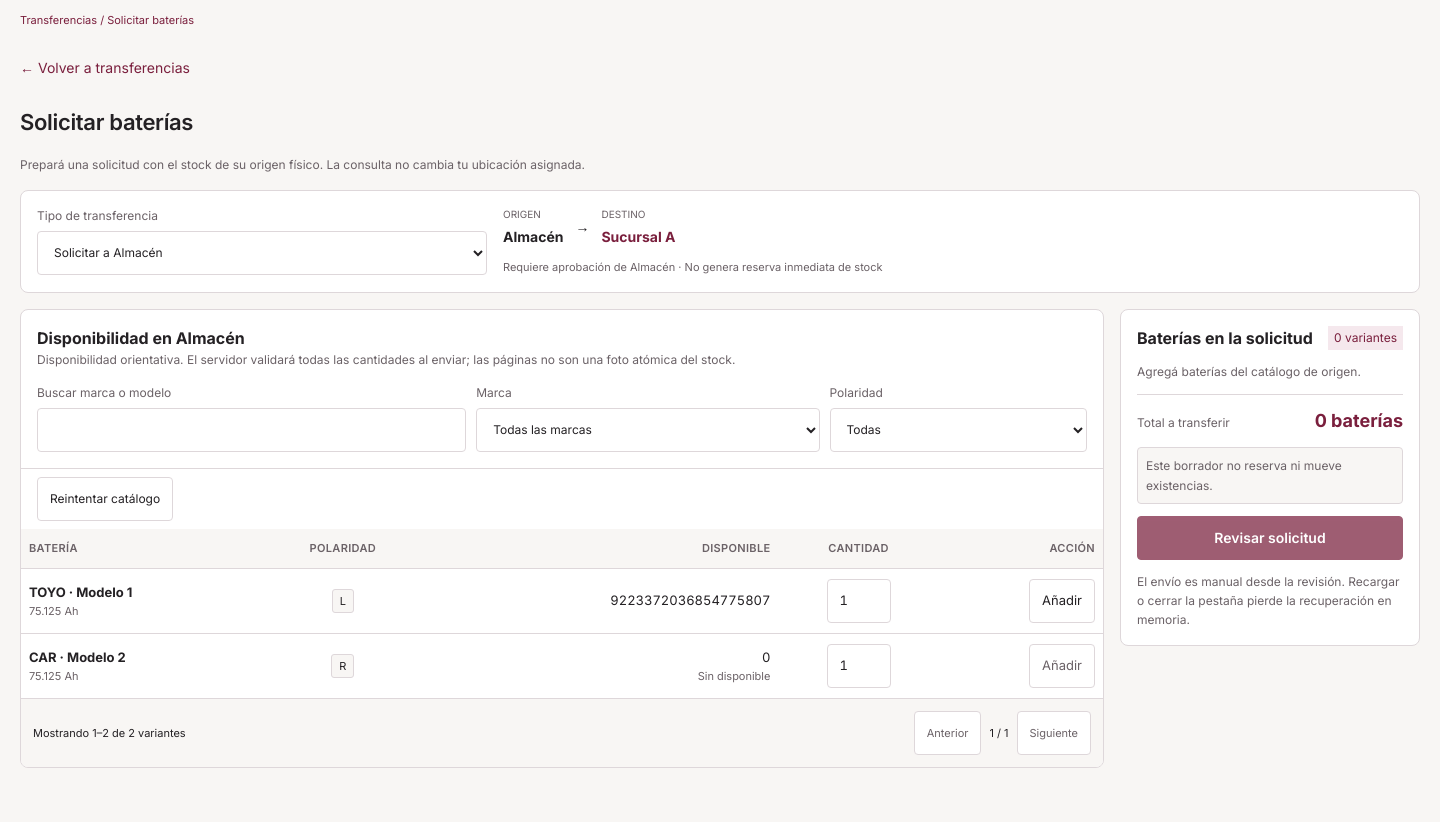
R04b2b workspace › opens the physical warehouse catalog with explicit real review and no stock mutations
Check: the heading "Disponibilidad en Almacén" is shown, box [37, 328, 245, 348]
Click the button with aria-label "Añadir Modelo 1 L".
click(1062, 601)  # box [1029, 579, 1095, 623]
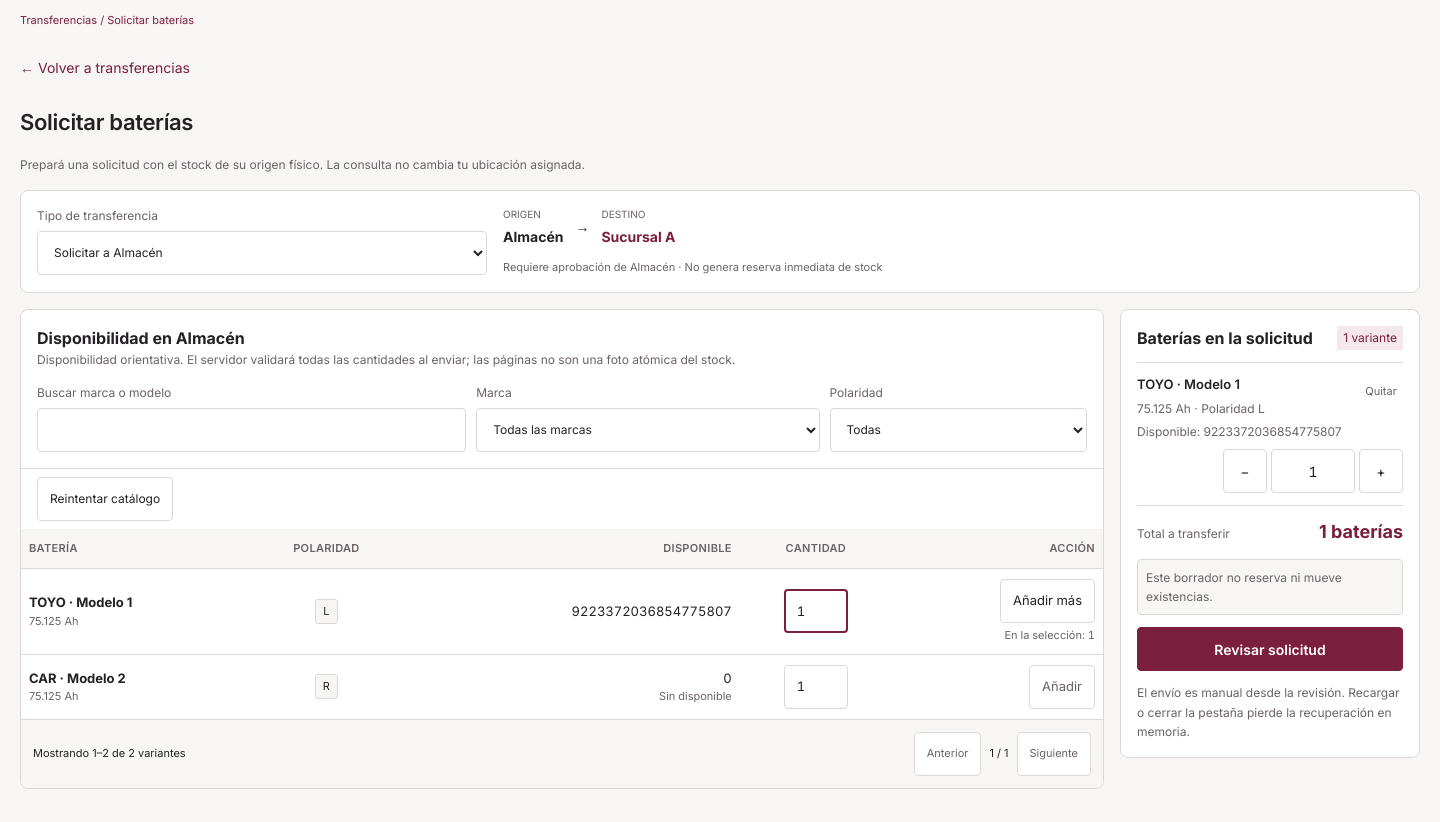
Check: the text "El envío es manual desde la revisión" is shown, box [1137, 685, 1400, 739]
Check: the button "Revisar solicitud" is enabled, box [1137, 627, 1403, 671]
